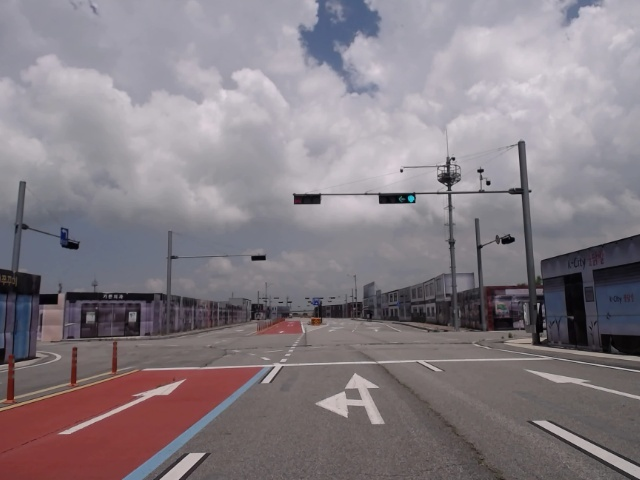all_green_4: (378, 195, 415, 201)
